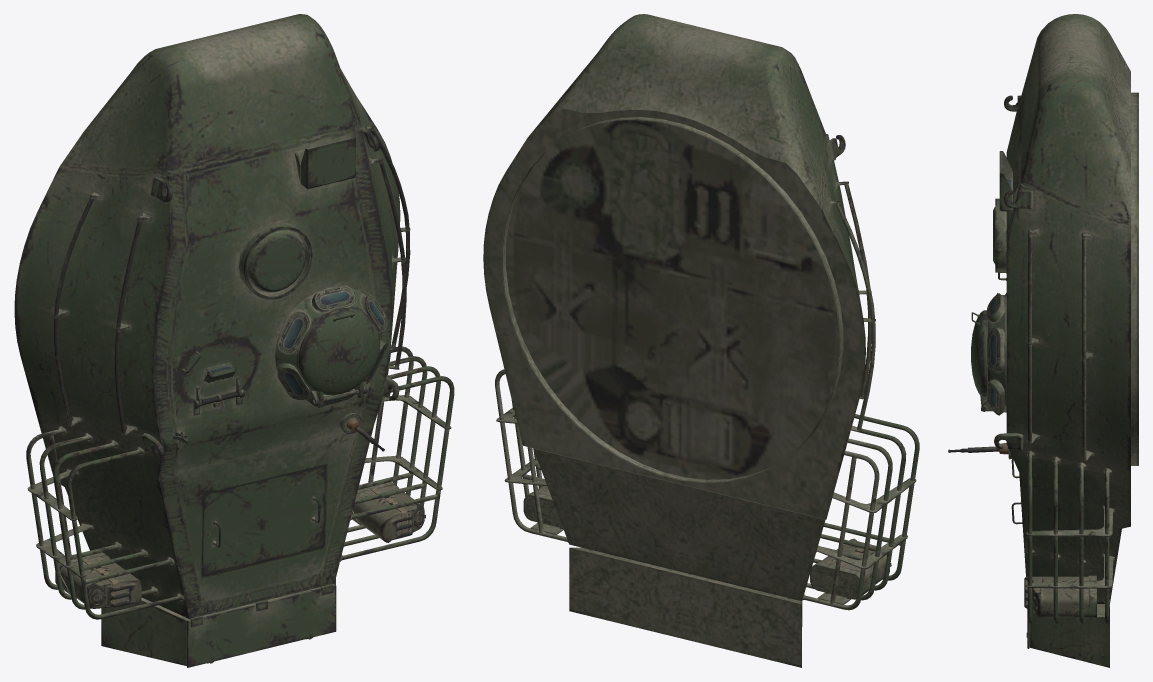
The model's file is Turret_01.glb.
3 renders of one model, left to right at view 1: azimuth 30°, elevation 25°; view 2: azimuth 150°, elevation 25°; view 3: azimuth 270°, elevation 25°, orthographic. The views are drawn at different scales.
Visible parts, largest first — view 1: set_0_group_0; view 2: set_0_group_0; view 3: set_0_group_0.
Part boxes in pixels (<box>): set_0_group_0: <box>14,14,454,667</box>; set_0_group_0: <box>483,14,919,667</box>; set_0_group_0: <box>948,14,1138,667</box>.
Size of the model in its own units: 2.73 by 4.05 by 1.23.
1 material, 1 textured.
